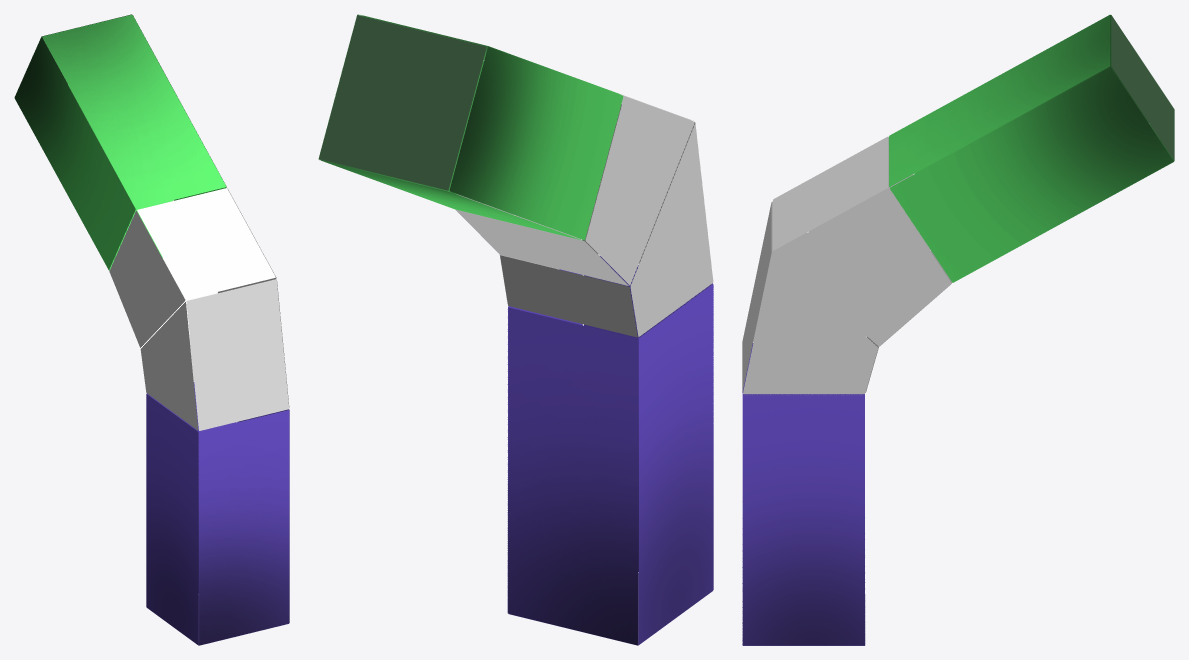
The model's file is zweite blend.obj.
3 views of the same model, side by side, from view 1: azimuth 30°, elevation 25°; view 2: azimuth 150°, elevation 25°; view 3: azimuth 270°, elevation 25° (orthographic). The views are drawn at different scales.
Visible parts, largest first — view 1: Cube; view 2: Cube; view 3: Cube.
Part boxes in pixels (x1,y1,x2,y2): Cube: (14, 14, 289, 645); Cube: (318, 14, 713, 645); Cube: (742, 14, 1174, 645).
Size of the model in its own units: 2 by 10.38 by 7.02.
